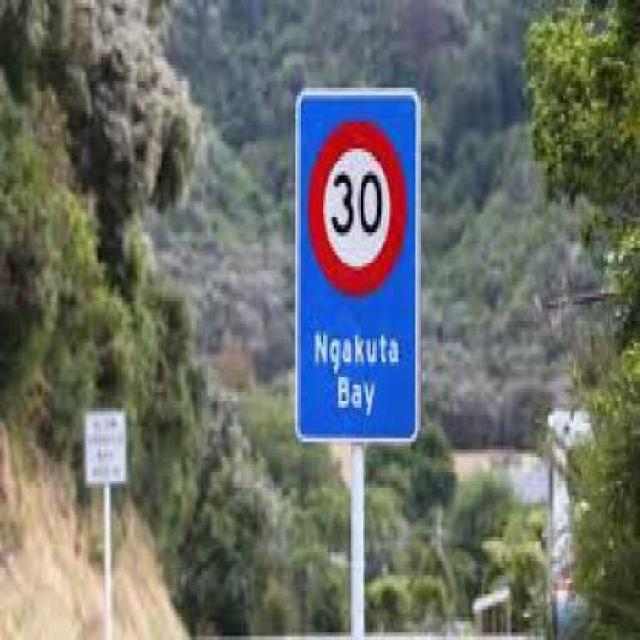forb_speed_over_30: (305, 114, 413, 301)
